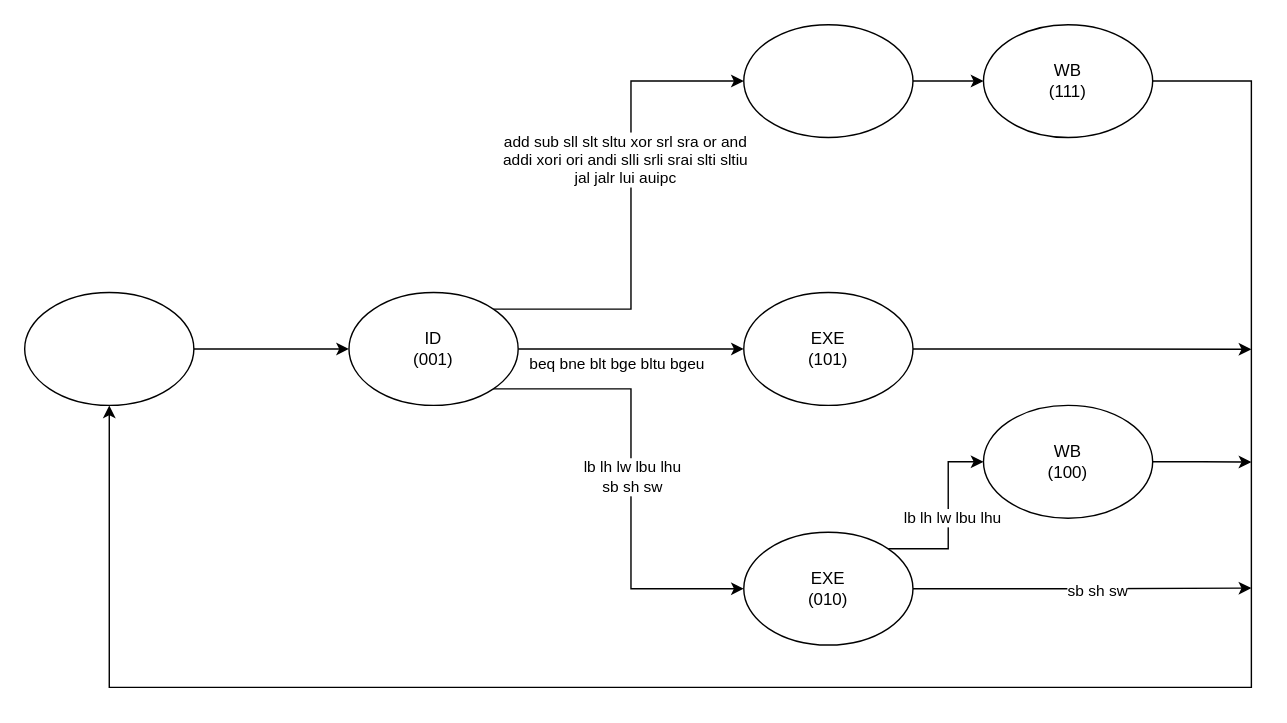
The diagram is 1287 pixels wide and 723 high, and some of its shapes have lost their labels. Here are the shapes that lost their labels. From the top down, the centre of each, then its label:
pixel 827 80: EXE (110)
pixel 108 348: IF (000)
